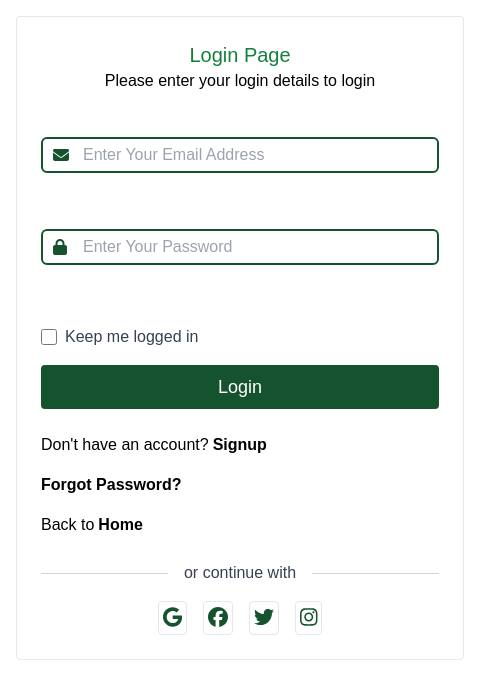
Test case: Login Page › should display error messages when email address is missing
Type "password123" into the password field with placeholder "Enter Your Password". click: (240, 247)
box: [41,229,439,265]
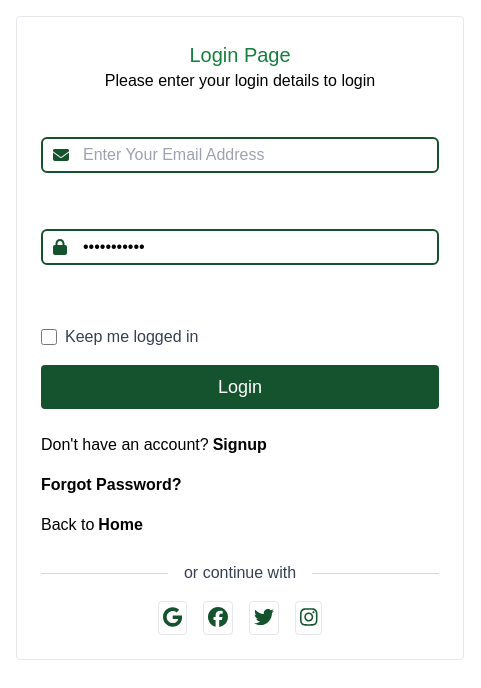
Click the button "Login". click: (240, 387)
box: [41,365,439,409]
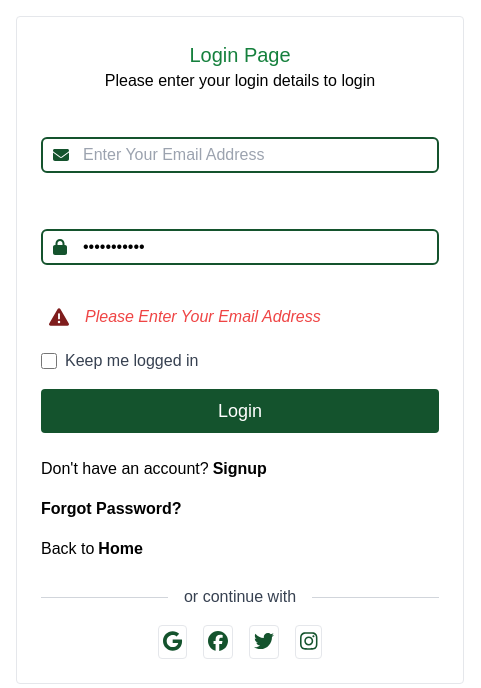
Now the text "Please Enter Your Email Address" is shown, box [85,308,321,325]
